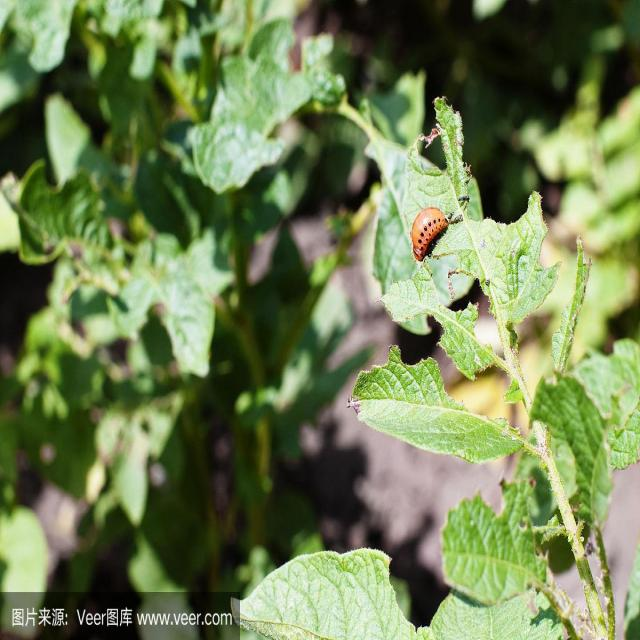ShuCaiHuaBanChong-Larva-: (404, 198, 462, 268)
